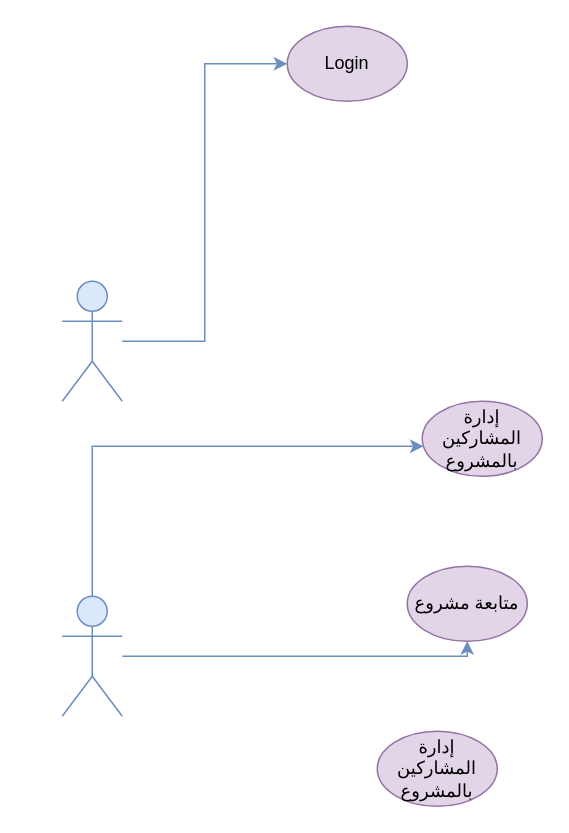
Image size: 569x833. Some labels were removed from this diagram. The centre of each missing label's shape, as x and y in pixels:
"رئيس فريق العمل" goes at pixel 91 655.
"مستخدم النظام" goes at pixel 91 340.
